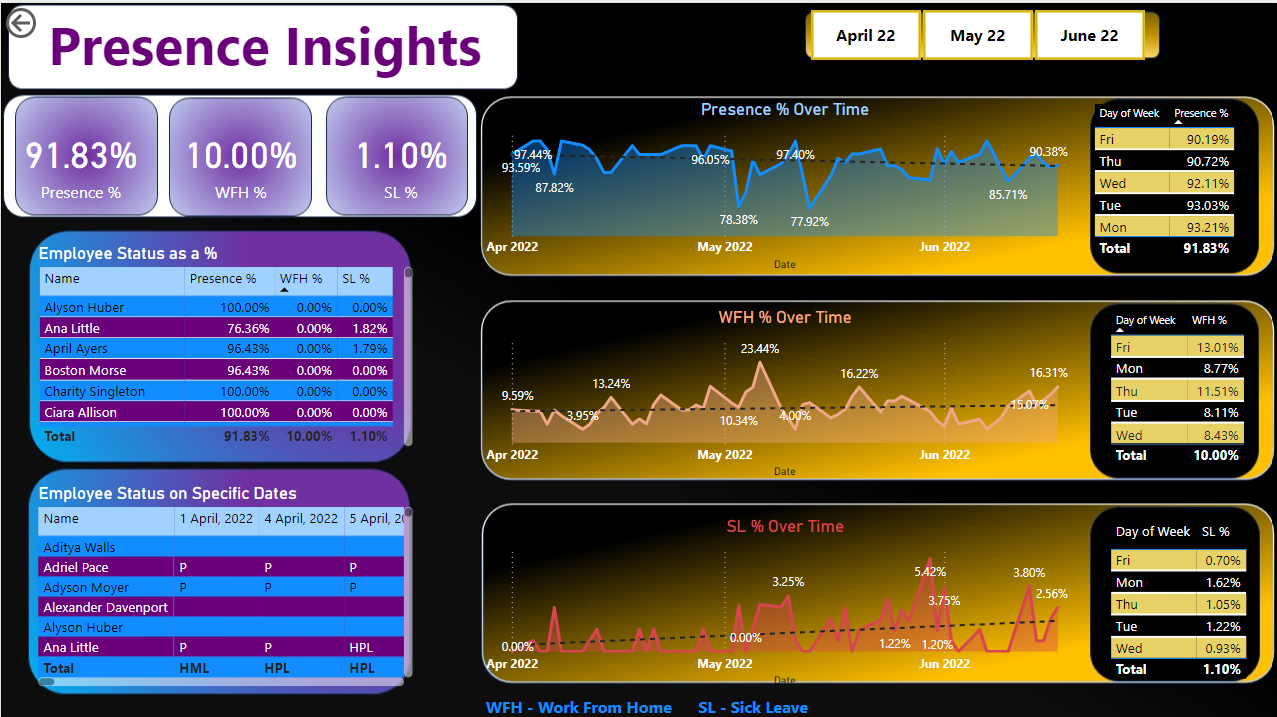

What the dashboard file says about the page in this screenshot:
{"tool":"powerbi","page":{"name":"Page 1","canvas":[1280,720],"ordinal":0},"visuals":[{"type":"card","fields":{"Values":["Measure Table.SL %"]},"box":[320,96,160,128],"z":0},{"type":"card","fields":{"Values":["Measure Table.Presence %"]},"box":[0,96,160,128],"z":1000},{"type":"card","fields":{"Values":["Measure Table.WFH %"]},"box":[160,96,160,128],"z":2000},{"type":"slicer","fields":{"Values":["Final Data.Month"]},"box":[784,0,384,64],"z":3000},{"type":"actionButton","box":[0,0,100,40],"z":4000},{"type":"textbox","box":[0,0,528,96],"z":5000},{"type":"tableEx","title":"Employee Status as a %","fields":{"Values":["Final Data.Name","Measure Table.Presence %","Measure Table.WFH %","Measure Table.SL %"]},"box":[32,240,384,208],"z":6000},{"type":"pivotTable","title":"Employee Status on Specific Dates","fields":{"Rows":["Final Data.Name"],"Values":["Min(Final Data.Value)"],"Columns":["Final Data.Date"]},"box":[32,480,384,208],"z":7000},{"type":"areaChart","title":"Presence % Over Time","fields":{"Y":["Measure Table.Presence %"],"Category":["Final Data.Date"]},"box":[480,96,608,176],"z":8000},{"type":"areaChart","title":"WFH % Over Time","fields":{"Category":["Final Data.Date"],"Y":["Measure Table.WFH %"]},"box":[480,304,608,176],"z":9000},{"type":"areaChart","title":"SL % Over Time","fields":{"Category":["Final Data.Date"],"Y":["Measure Table.SL %"]},"box":[480,512,608,176],"z":10000},{"type":"tableEx","fields":{"Values":["Final Data.Day of Week","Measure Table.Presence %"]},"box":[1088,96,192,176],"z":11000},{"type":"tableEx","fields":{"Values":["Final Data.Day of Week","Measure Table.WFH %"]},"box":[1104,304,160,192],"z":12000},{"type":"tableEx","fields":{"Values":["Final Data.Day of Week","Measure Table.SL %"]},"box":[1104,512,176,176],"z":13000}]}

Visuals, with their boxes in screenshot pixels (x1, y1, x2, y2), scaled from the page's 1280x720 canvas onto the 1277x717 screenshot:
card - Measure Table.SL %: bbox(319, 96, 479, 223)
card - Measure Table.Presence %: bbox(0, 96, 160, 223)
card - Measure Table.WFH %: bbox(160, 96, 319, 223)
slicer - Final Data.Month: bbox(782, 0, 1165, 64)
actionButton: bbox(0, 0, 100, 40)
textbox: bbox(0, 0, 527, 96)
"Employee Status as a %" tableEx: bbox(32, 239, 415, 446)
"Employee Status on Specific Dates" pivotTable: bbox(32, 478, 415, 685)
"Presence % Over Time" areaChart: bbox(479, 96, 1085, 271)
"WFH % Over Time" areaChart: bbox(479, 303, 1085, 478)
"SL % Over Time" areaChart: bbox(479, 510, 1085, 685)
tableEx - Final Data.Day of Week x Measure Table.Presence %: bbox(1085, 96, 1276, 271)
tableEx - Final Data.Day of Week x Measure Table.WFH %: bbox(1101, 303, 1261, 494)
tableEx - Final Data.Day of Week x Measure Table.SL %: bbox(1101, 510, 1276, 685)
